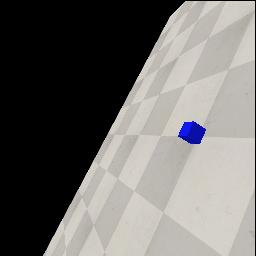box: (178, 121, 206, 144)
